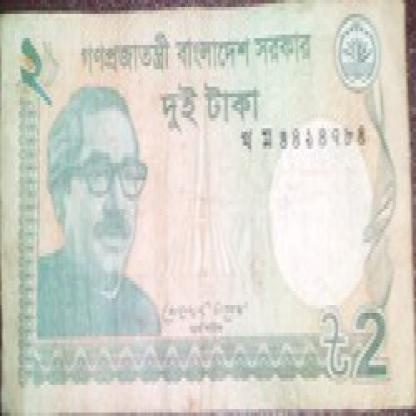two taka: (349, 294, 396, 385), (15, 35, 53, 108)
